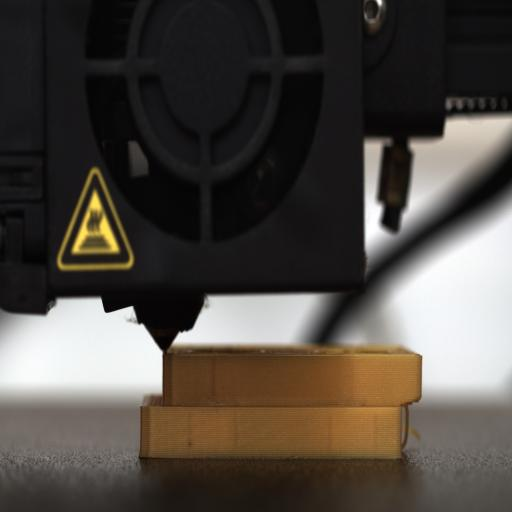layer_shift: (138, 384, 424, 418)
